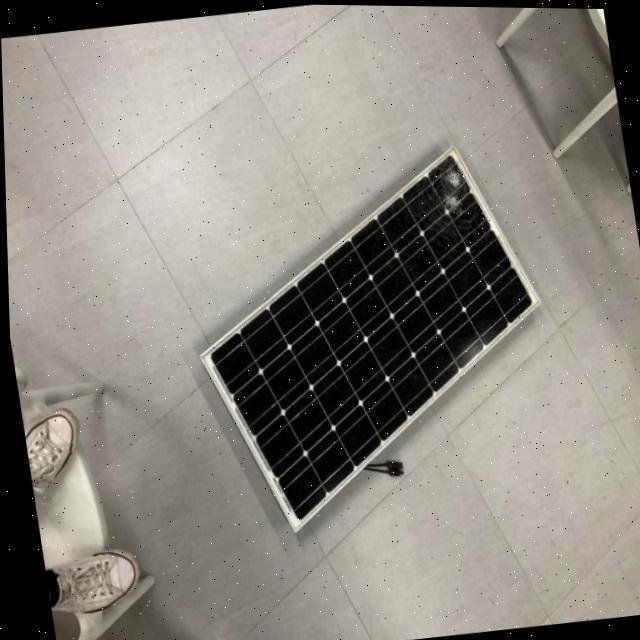Structural Damage: (411, 156, 478, 232)
